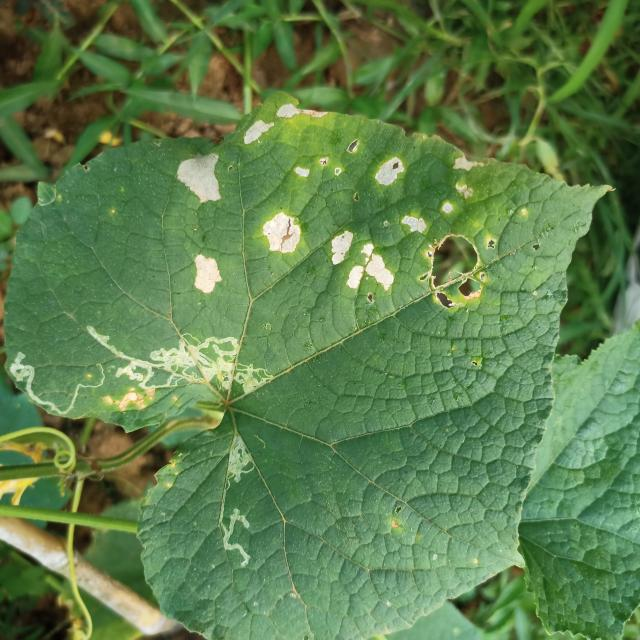disease_cucumber: (241, 97, 526, 319), (170, 142, 232, 300)
